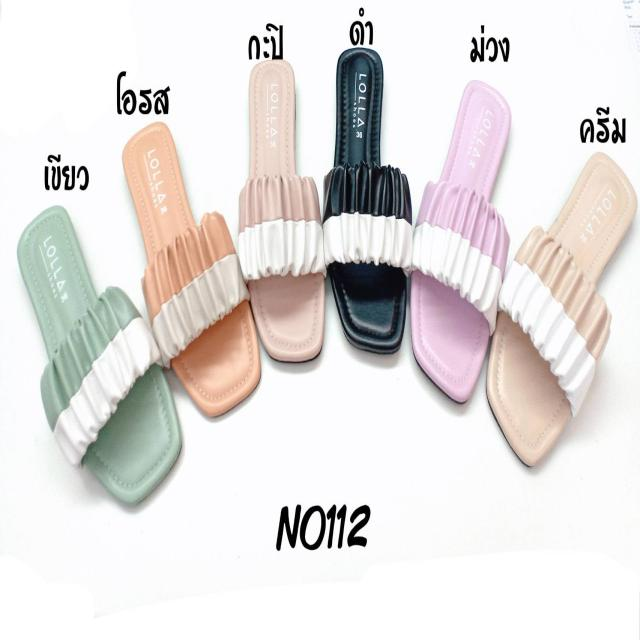black: (334, 39, 400, 357)
cream: (488, 152, 637, 466)
green: (15, 209, 181, 504)
kapi: (237, 59, 332, 361)
orot: (128, 127, 260, 417)
purple: (409, 80, 512, 413)
